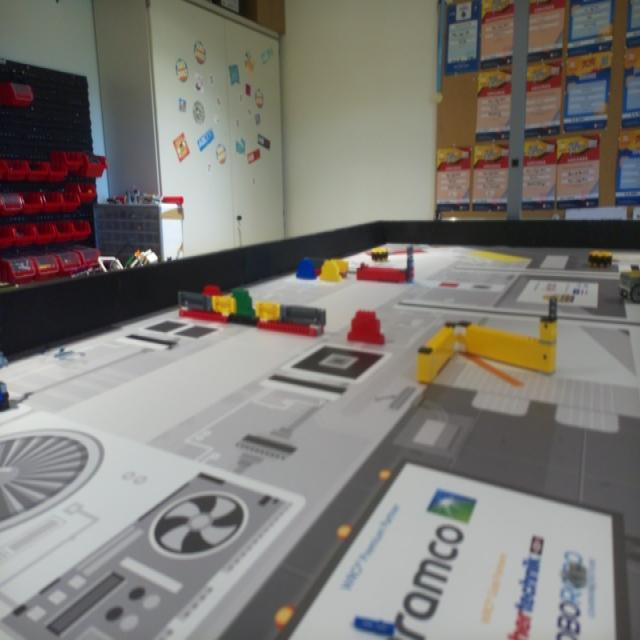blau: (295, 253, 316, 287)
gruen: (228, 282, 258, 316)
rot: (348, 305, 385, 348), (194, 278, 222, 298)
yellow: (319, 256, 341, 287)
